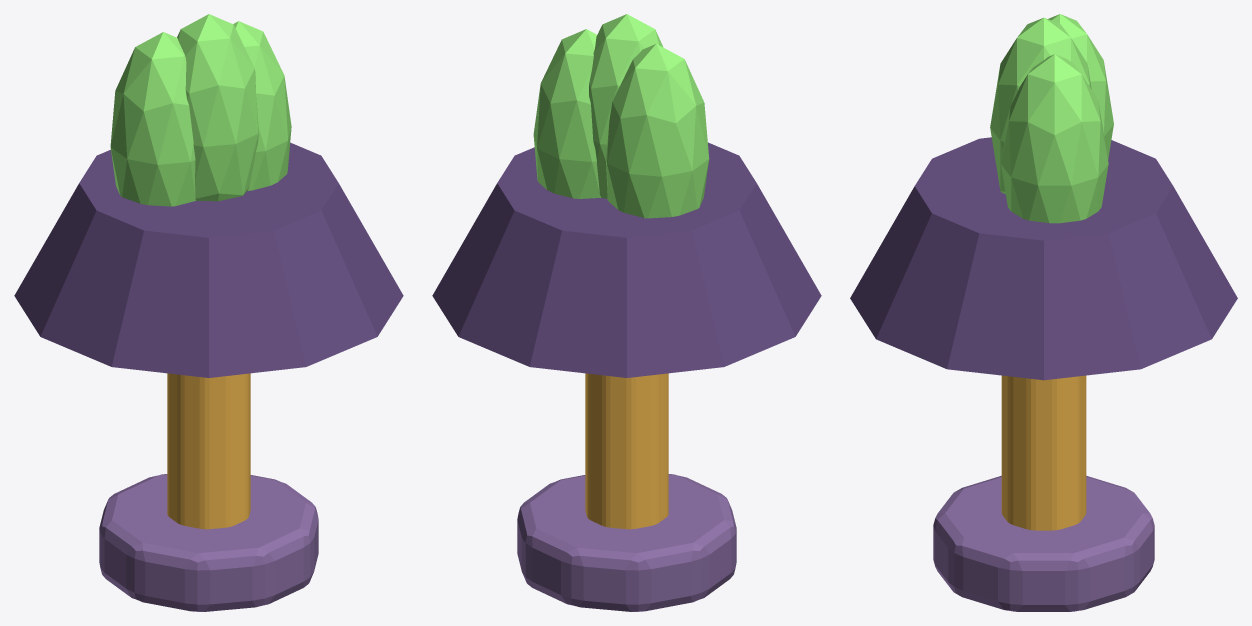
Rendered from brazier.glb.
3 views of the same model, side by side, from view 1: azimuth 30°, elevation 25°; view 2: azimuth 150°, elevation 25°; view 3: azimuth 270°, elevation 25° (orthographic).
Parts seen in each view (by area): view 1: CursedBrazierMesh; view 2: CursedBrazierMesh; view 3: CursedBrazierMesh.
Part boxes in pixels (x1=…): CursedBrazierMesh: x1=14, y1=14, x2=403, y2=611; CursedBrazierMesh: x1=432, y1=14, x2=821, y2=611; CursedBrazierMesh: x1=850, y1=14, x2=1237, y2=611.
Size of the model in its own units: 1.44 by 2.27 by 1.44.
